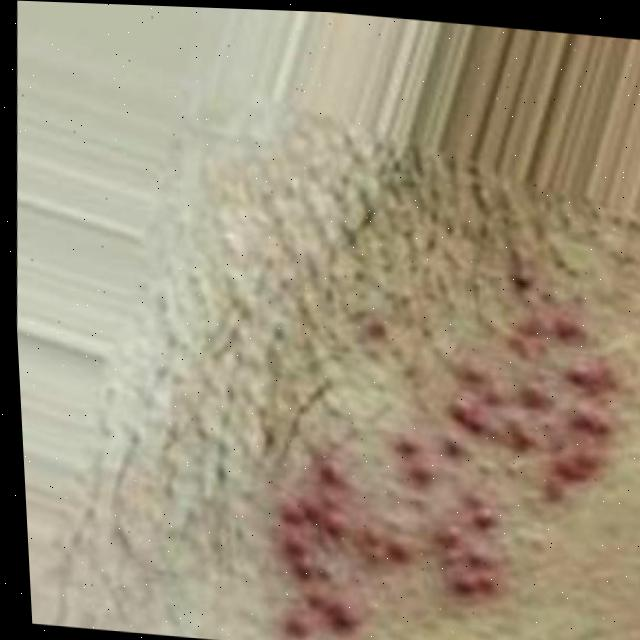Shingles: (252, 287, 634, 640)
